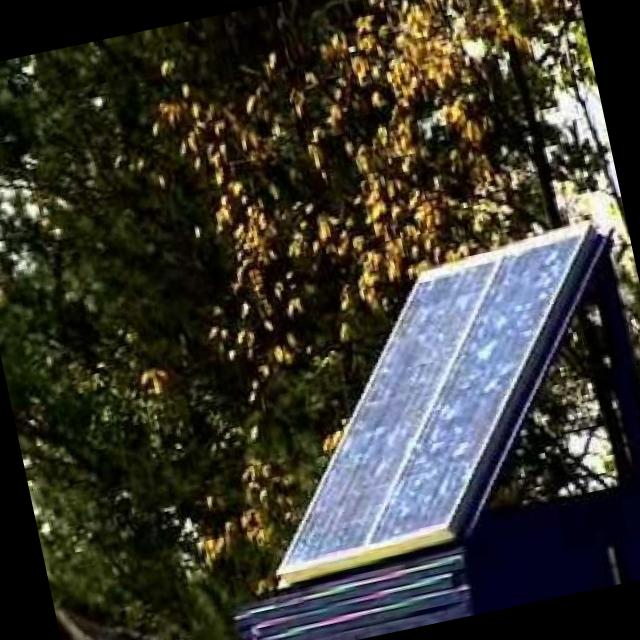faulty: (291, 257, 496, 559), (374, 236, 581, 531)
